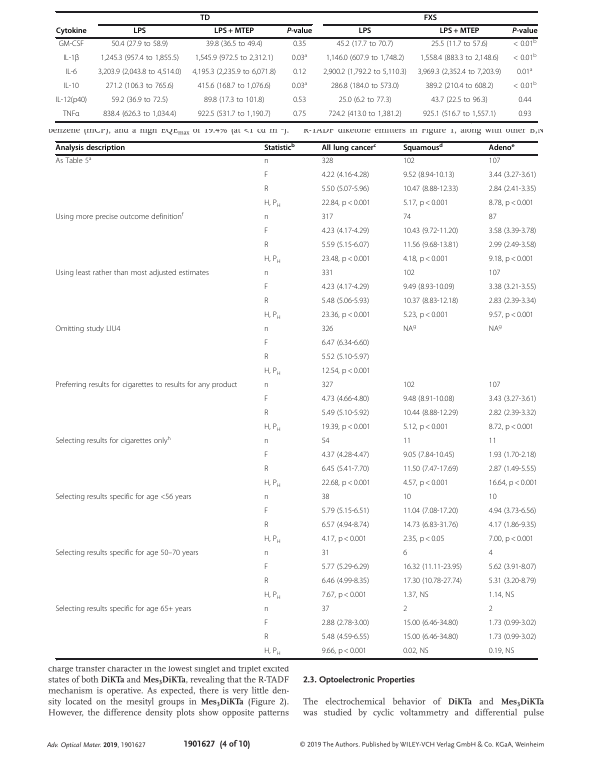borderless: (54, 140, 537, 658), (54, 10, 537, 121)
cell: (55, 381, 238, 391), (55, 269, 210, 279), (55, 211, 184, 223), (55, 549, 199, 559), (55, 435, 172, 447), (55, 493, 192, 503), (55, 605, 192, 615), (191, 68, 277, 78), (322, 68, 408, 78), (97, 68, 182, 78), (417, 68, 502, 78), (100, 54, 180, 64), (194, 54, 274, 64), (325, 54, 405, 64), (419, 54, 499, 64), (197, 82, 272, 92), (102, 110, 177, 120), (197, 110, 272, 120), (327, 110, 402, 120), (422, 110, 497, 120), (105, 82, 175, 92), (330, 82, 400, 92), (424, 82, 494, 92), (55, 325, 121, 335), (55, 144, 126, 153), (203, 96, 265, 106), (321, 142, 377, 153), (402, 563, 463, 573), (402, 577, 463, 587), (110, 40, 169, 50), (430, 40, 489, 50), (110, 96, 169, 106), (430, 96, 489, 106), (205, 40, 263, 50), (336, 40, 394, 50), (402, 185, 459, 195), (402, 227, 459, 237), (402, 241, 459, 251), (402, 297, 459, 307), (402, 409, 459, 419), (402, 465, 459, 475), (402, 507, 459, 517), (402, 521, 459, 531), (402, 619, 459, 629), (402, 633, 459, 643), (338, 96, 392, 106), (402, 171, 455, 181), (402, 283, 455, 293), (402, 395, 455, 405), (402, 451, 455, 461), (321, 199, 371, 209), (321, 255, 371, 265), (321, 311, 371, 321), (321, 367, 371, 377), (321, 423, 371, 433), (321, 479, 371, 489), (488, 479, 538, 489), (321, 171, 370, 181), (488, 171, 537, 181), (321, 185, 370, 195), (488, 185, 537, 195), (321, 227, 370, 237), (488, 227, 537, 237), (321, 241, 370, 251), (488, 241, 537, 251), (321, 283, 370, 293), (488, 283, 537, 293), (321, 297, 370, 307), (488, 297, 537, 307), (321, 339, 370, 349), (321, 353, 370, 363), (321, 395, 370, 405), (488, 395, 537, 405), (321, 409, 370, 419), (488, 409, 537, 419), (321, 451, 370, 461), (488, 451, 537, 461), (321, 465, 370, 475), (488, 465, 537, 475), (321, 507, 370, 517), (488, 507, 537, 517), (321, 521, 370, 531), (488, 521, 537, 531), (321, 563, 370, 573), (488, 563, 537, 573), (321, 577, 370, 587), (488, 577, 537, 587), (321, 619, 370, 629), (488, 619, 537, 629), (321, 633, 370, 643), (488, 633, 537, 643), (402, 199, 449, 209), (488, 199, 535, 209), (402, 255, 449, 265), (488, 255, 535, 265), (402, 311, 449, 321), (488, 311, 535, 321), (402, 423, 449, 433), (488, 423, 535, 433), (402, 479, 449, 489), (321, 535, 368, 545), (488, 535, 535, 545), (321, 591, 368, 601), (321, 647, 368, 657), (402, 142, 444, 153), (55, 155, 92, 167), (402, 535, 445, 545), (213, 27, 255, 37), (439, 27, 480, 37), (263, 142, 296, 153), (55, 96, 88, 106), (55, 27, 87, 37), (488, 142, 515, 153), (512, 39, 537, 50), (512, 53, 537, 64), (512, 81, 537, 92), (402, 591, 429, 601), (488, 591, 515, 601), (402, 647, 429, 657), (488, 647, 515, 657), (286, 27, 313, 37), (511, 27, 538, 37), (58, 40, 85, 50), (263, 199, 282, 209), (263, 255, 282, 265), (263, 311, 282, 321), (263, 367, 282, 377), (263, 423, 282, 433), (263, 479, 282, 489), (263, 535, 282, 545), (263, 591, 282, 601), (263, 647, 282, 657), (291, 53, 308, 64), (516, 67, 533, 78), (291, 81, 308, 92), (402, 323, 417, 335), (488, 323, 503, 335), (62, 54, 80, 64), (62, 110, 80, 120), (63, 82, 80, 92), (132, 27, 147, 37), (292, 40, 307, 50), (292, 68, 307, 78), (292, 96, 307, 106), (517, 96, 532, 106), (292, 110, 307, 120), (517, 110, 532, 120), (402, 157, 416, 167), (402, 269, 416, 279), (402, 381, 416, 391), (358, 27, 372, 37), (64, 68, 78, 78), (423, 14, 438, 23), (321, 157, 334, 167), (488, 157, 501, 167), (321, 213, 334, 223), (321, 269, 334, 279), (488, 269, 501, 279), (321, 325, 334, 335), (321, 381, 334, 391), (488, 381, 501, 391), (199, 14, 211, 23), (402, 213, 412, 223), (402, 437, 412, 447), (402, 493, 412, 503), (488, 213, 497, 223), (321, 437, 330, 447), (488, 437, 497, 447), (321, 493, 330, 503), (488, 493, 497, 503), (321, 549, 330, 559), (321, 605, 330, 615), (263, 157, 269, 167), (263, 171, 269, 181), (263, 185, 269, 195), (263, 213, 269, 223), (263, 227, 269, 237), (263, 241, 269, 251), (263, 269, 269, 279), (263, 283, 269, 293), (263, 297, 269, 307), (263, 325, 269, 335), (263, 339, 269, 349), (263, 353, 269, 363), (263, 381, 269, 391), (263, 395, 269, 405), (263, 409, 269, 419), (263, 437, 269, 447), (263, 451, 269, 461), (263, 465, 269, 475), (263, 493, 269, 503), (263, 507, 269, 517), (263, 521, 269, 531), (263, 549, 269, 559), (402, 549, 408, 559), (488, 549, 494, 559), (263, 563, 269, 573), (263, 577, 269, 587), (263, 605, 269, 615), (402, 605, 408, 615), (488, 605, 494, 615), (263, 619, 269, 629), (263, 633, 269, 643)
